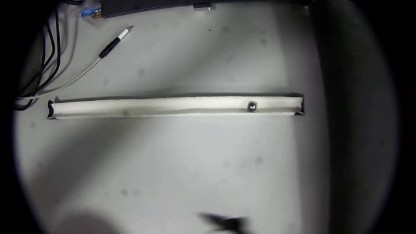gangzhu: (247, 99, 257, 113)
